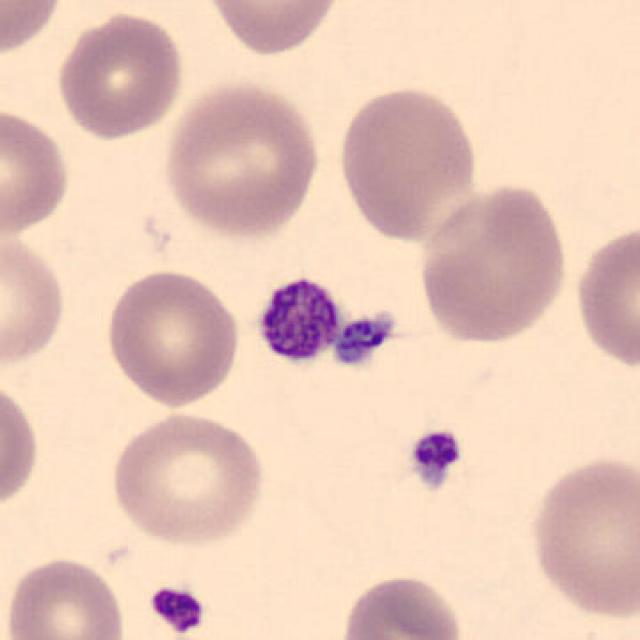Platelets: (249, 272, 341, 370), (405, 425, 466, 492), (331, 311, 398, 368), (146, 582, 208, 636)
RBC: (158, 76, 324, 241), (412, 180, 572, 347), (332, 79, 483, 245), (105, 407, 268, 550), (102, 264, 244, 411), (524, 451, 638, 624), (52, 9, 186, 141), (0, 552, 130, 640), (571, 218, 638, 376), (0, 102, 73, 236), (0, 229, 69, 368), (336, 569, 468, 640), (201, 0, 347, 58), (0, 374, 43, 516), (0, 0, 68, 62)
